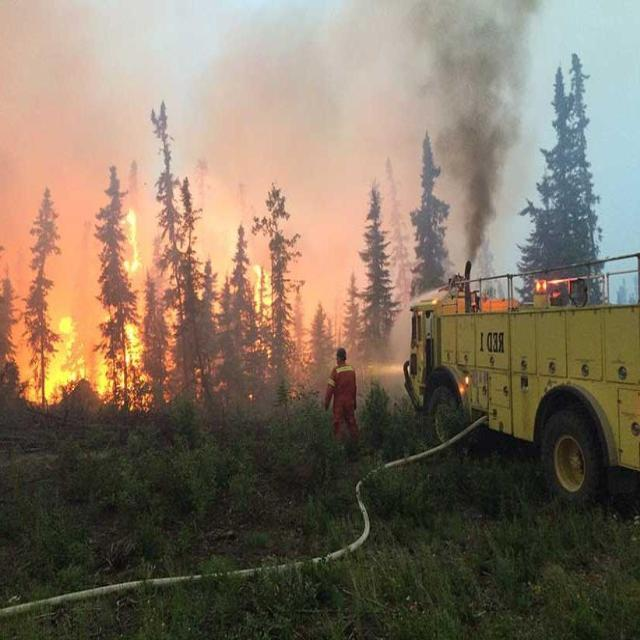Fire: (26, 203, 152, 412), (250, 263, 274, 362)
Smoke: (1, 1, 540, 405)
